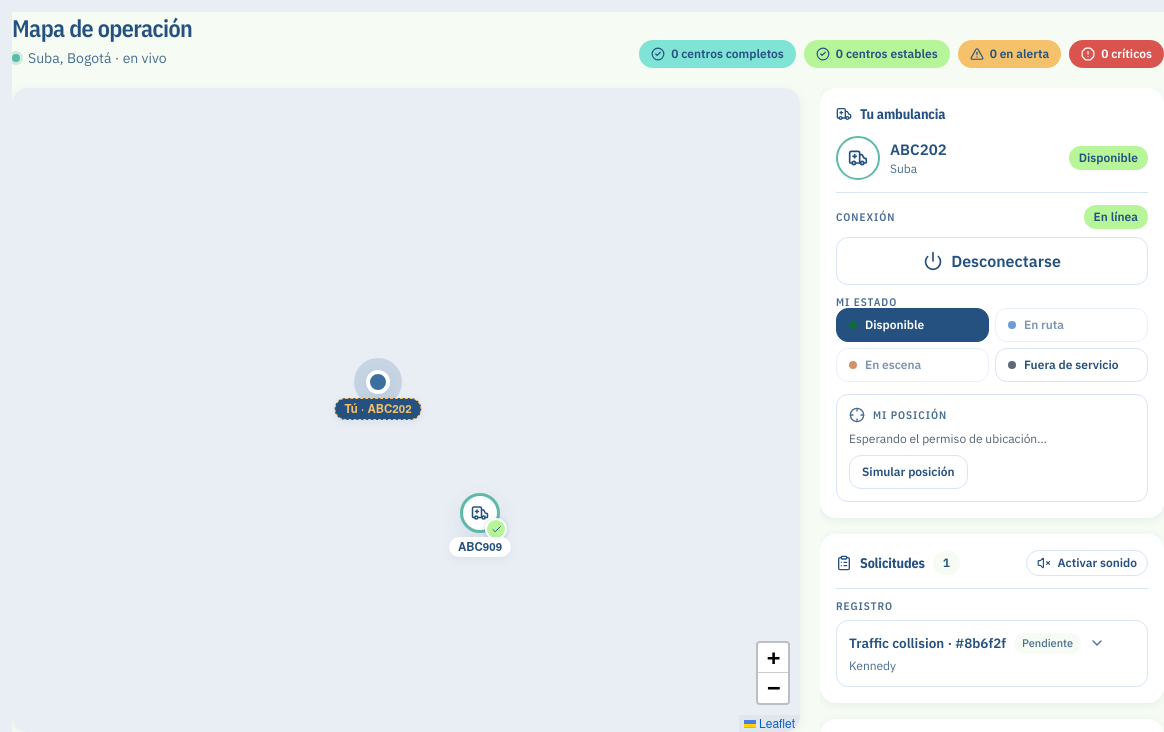
Scenario: DriverConsolePage against the real backend › RES-4: a lost CAS removes the row at once, with its notice, and is never a win
Expected: the text "ABC202" is shown, [890,140,947,159]
Click the button "Traffic collision · #8b6f2f Pendiente Kennedy": {"x": 992, "y": 653} [836,620,1148,686]
(page scrolled)
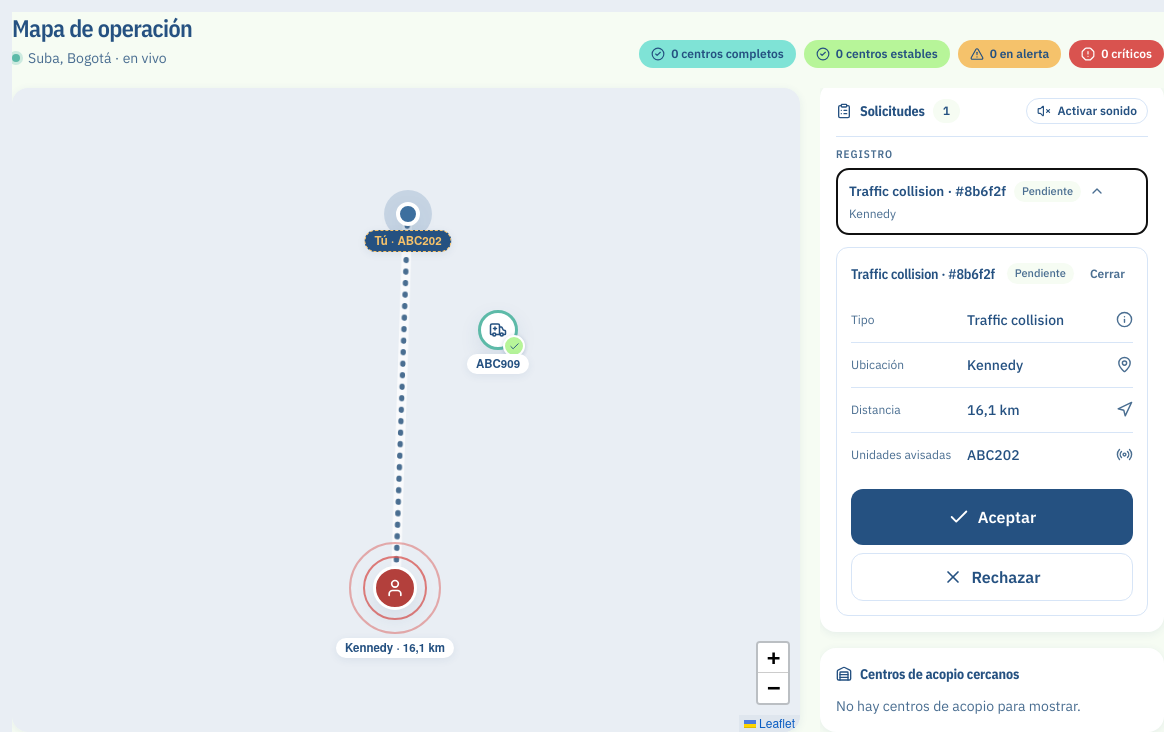
Click the button "Aceptar": {"x": 992, "y": 516} [851,488,1133,544]
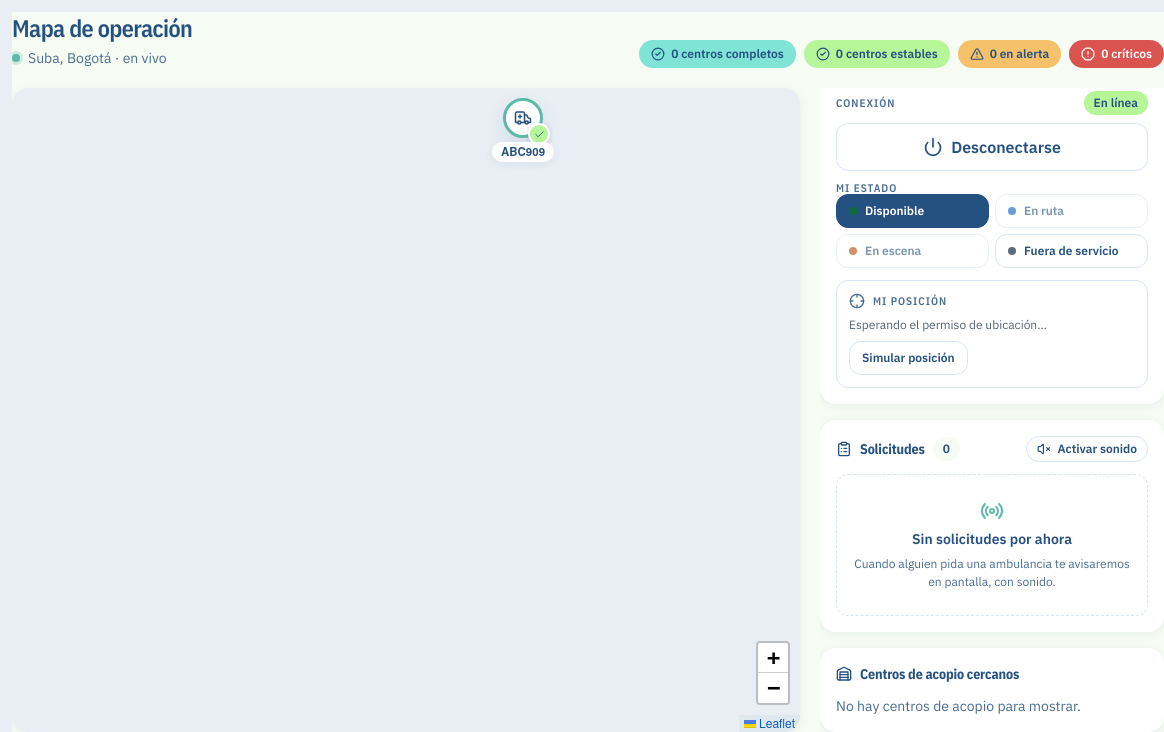
Expected: the element with test id "solicitud-detail" is gone
